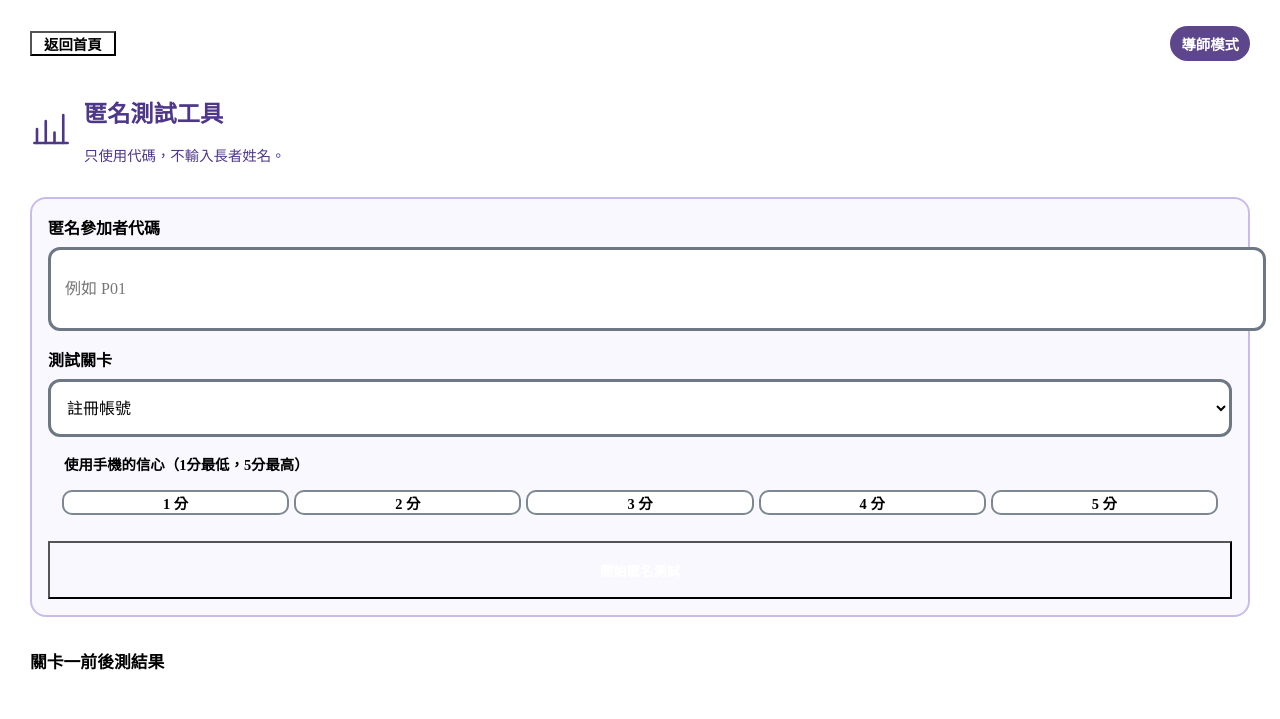
Test: StudyPanel › rejects participant codes outside P01 to P05
In the field labelled "匿名參加者代碼": (657,290) x1=48 y1=248 x2=1266 y2=332, type "P06"
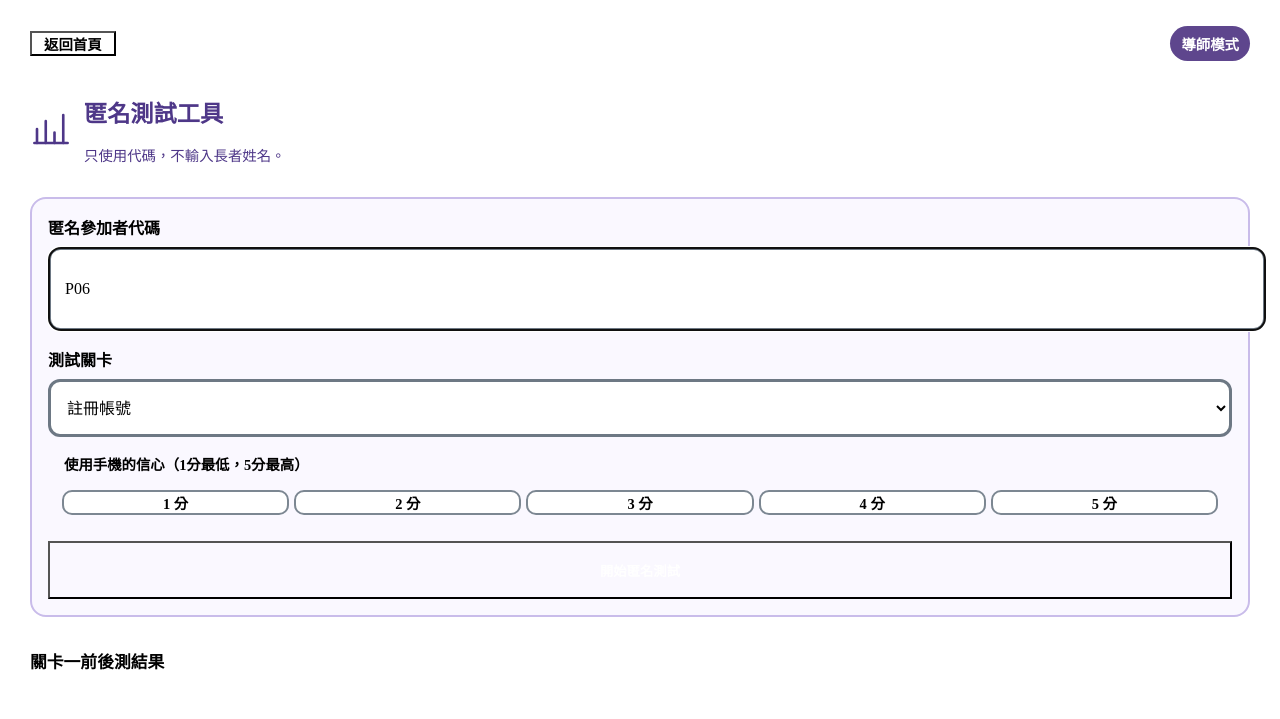
Click the radio button labelled "3 分": (640,502) x1=526 y1=490 x2=754 y2=515
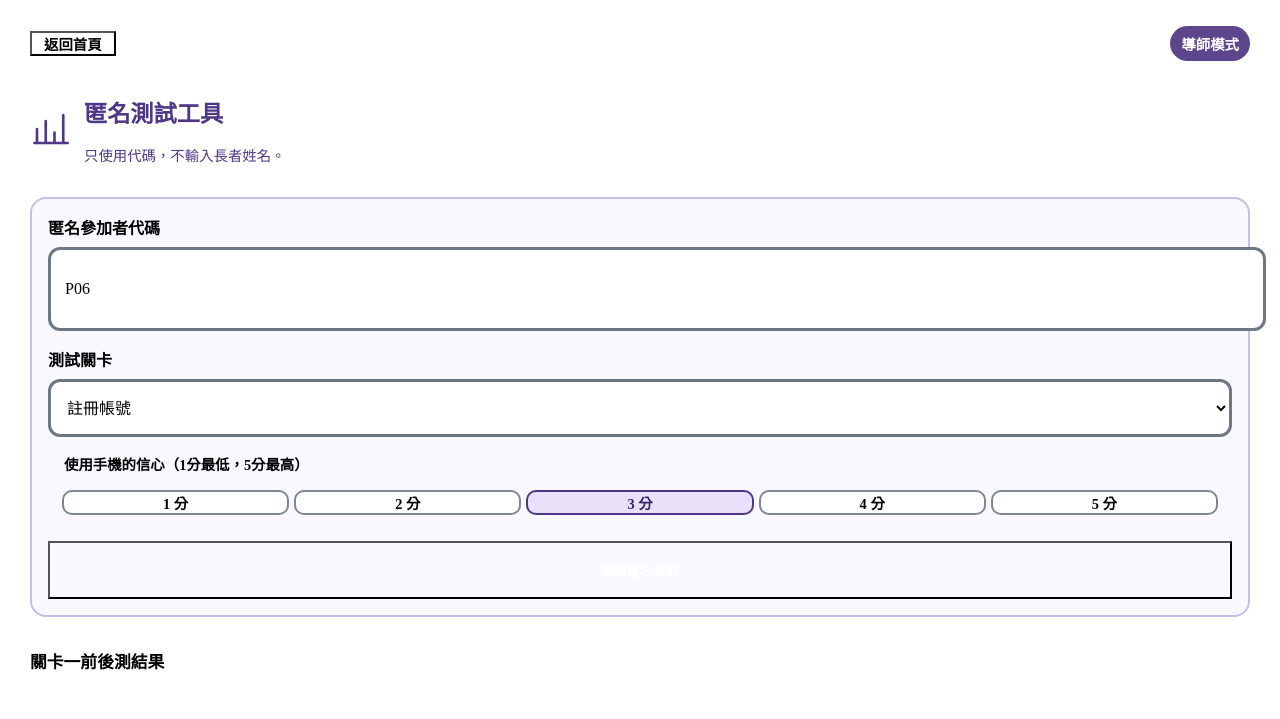
Click the button "開始匿名測試": (640,570) x1=48 y1=541 x2=1232 y2=599
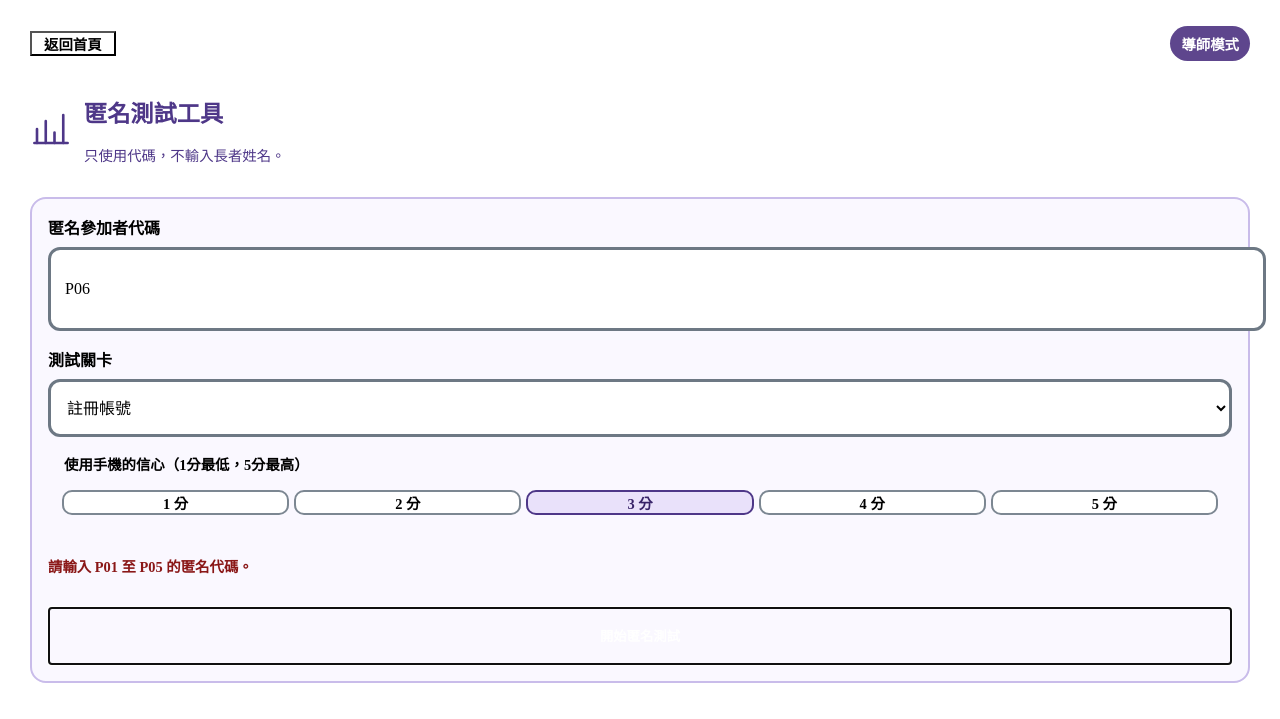
Check: the message shows "請輸入 P01 至 P05", box x1=48 y1=559 x2=253 y2=575
